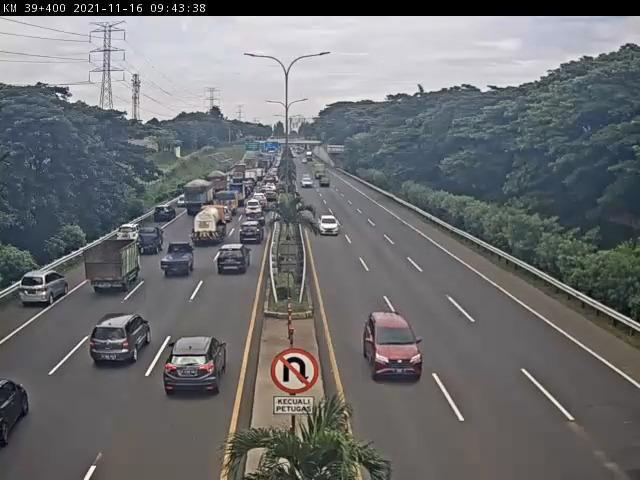car: (349, 303, 433, 397), (149, 335, 233, 415), (75, 308, 160, 384), (10, 262, 73, 316), (205, 238, 258, 290), (1, 373, 35, 451), (147, 197, 183, 234), (234, 218, 270, 254), (160, 241, 195, 278), (105, 219, 147, 248), (311, 208, 344, 243), (133, 226, 167, 257), (239, 195, 269, 223), (243, 208, 269, 236), (171, 187, 193, 213)
truck: (84, 238, 143, 296), (181, 201, 235, 253), (183, 177, 220, 218), (213, 190, 242, 218)
